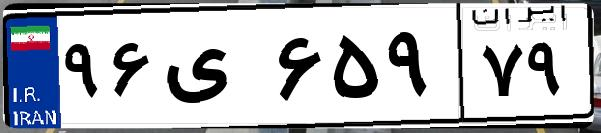5: (330, 28, 385, 110)
6: (270, 28, 330, 110), (110, 28, 158, 98)
7: (475, 38, 525, 113)
9: (385, 28, 445, 110), (57, 26, 110, 100), (525, 38, 570, 115)
ی: (158, 20, 270, 120)
